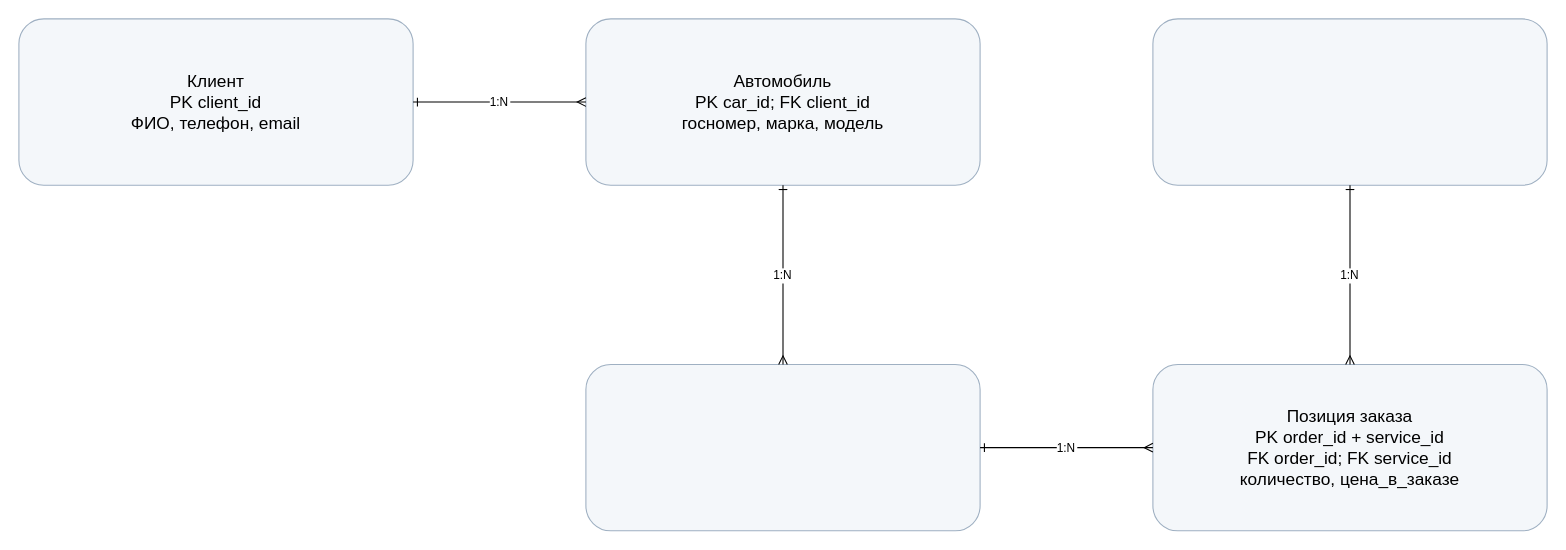
This 1566x550 diagram has some shape labels left out. Here are the shapes that lost their labels. From the top down, the centre of each, then its label:
(1349,101): Услуга PK service_id название, цена, длительность
(782,447): Заказ PK order_id; FK car_id дата, статус, сумма
